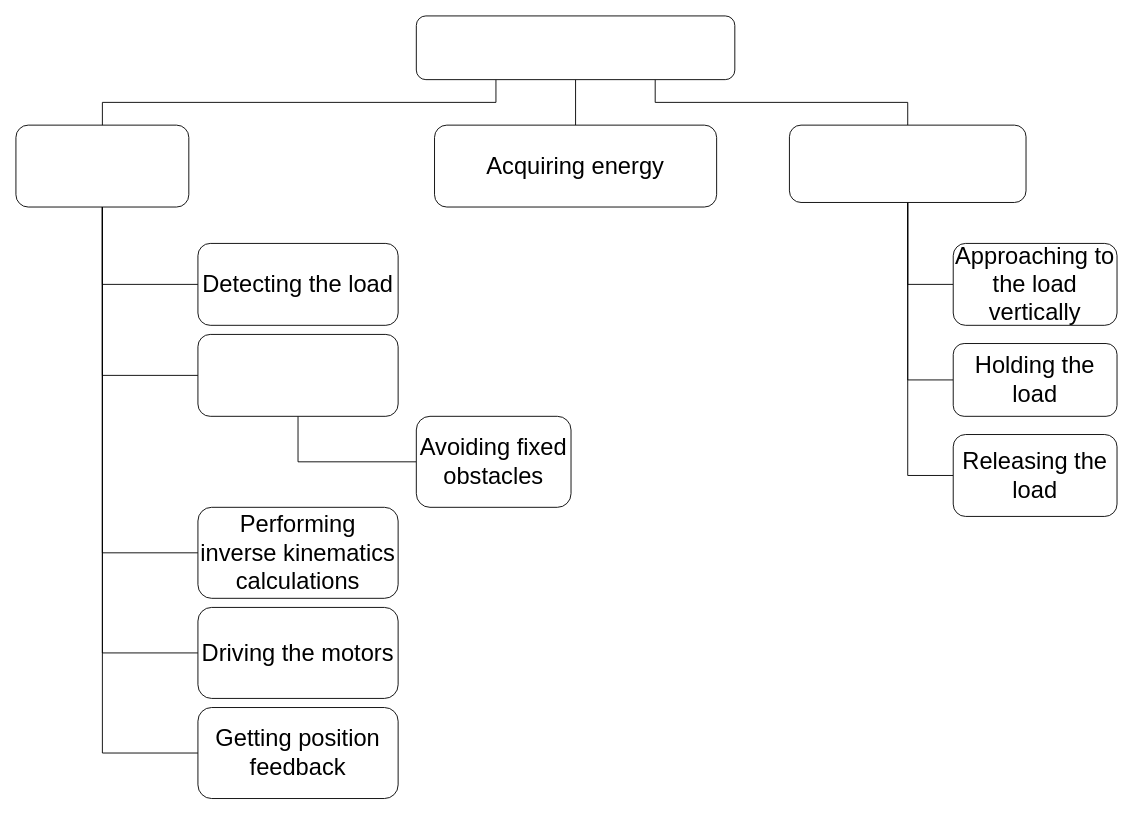
Some shapes in this 1133 by 814 pixel diagram are drawn without their labels. Each missing label, with the centre of its shape:
"Moving the body" belongs at point 102,165.
"Planning the trajectory" belongs at point 297,375.
"Taking and placing the load" belongs at point 907,163.
"Transporting light loads" belongs at point 575,47.
